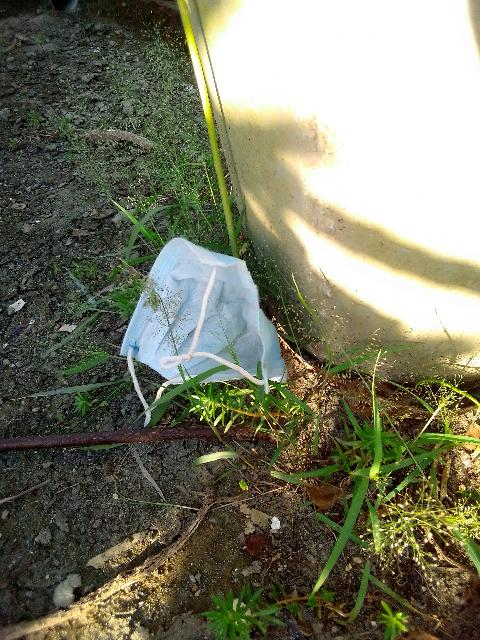mask: (113, 206, 318, 432)
